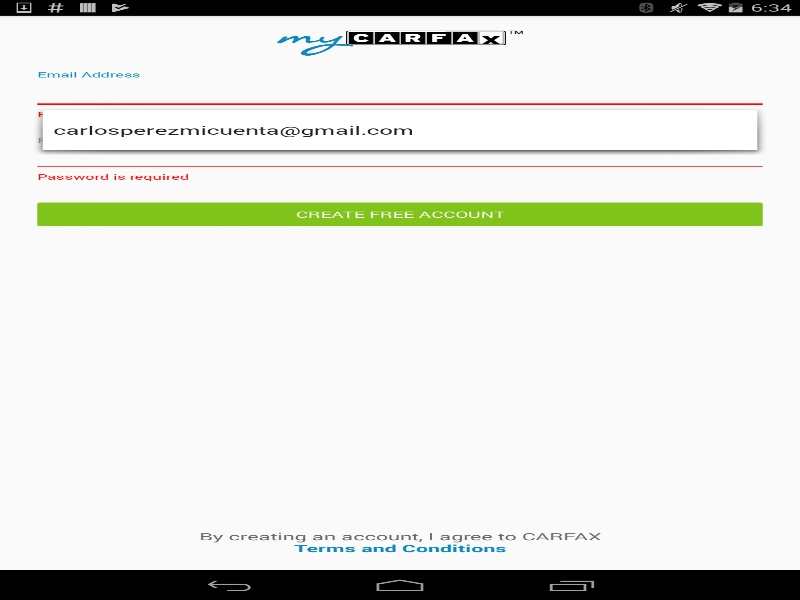Button: (32, 198, 768, 230)
Input: (32, 77, 768, 109), (32, 143, 768, 171)
